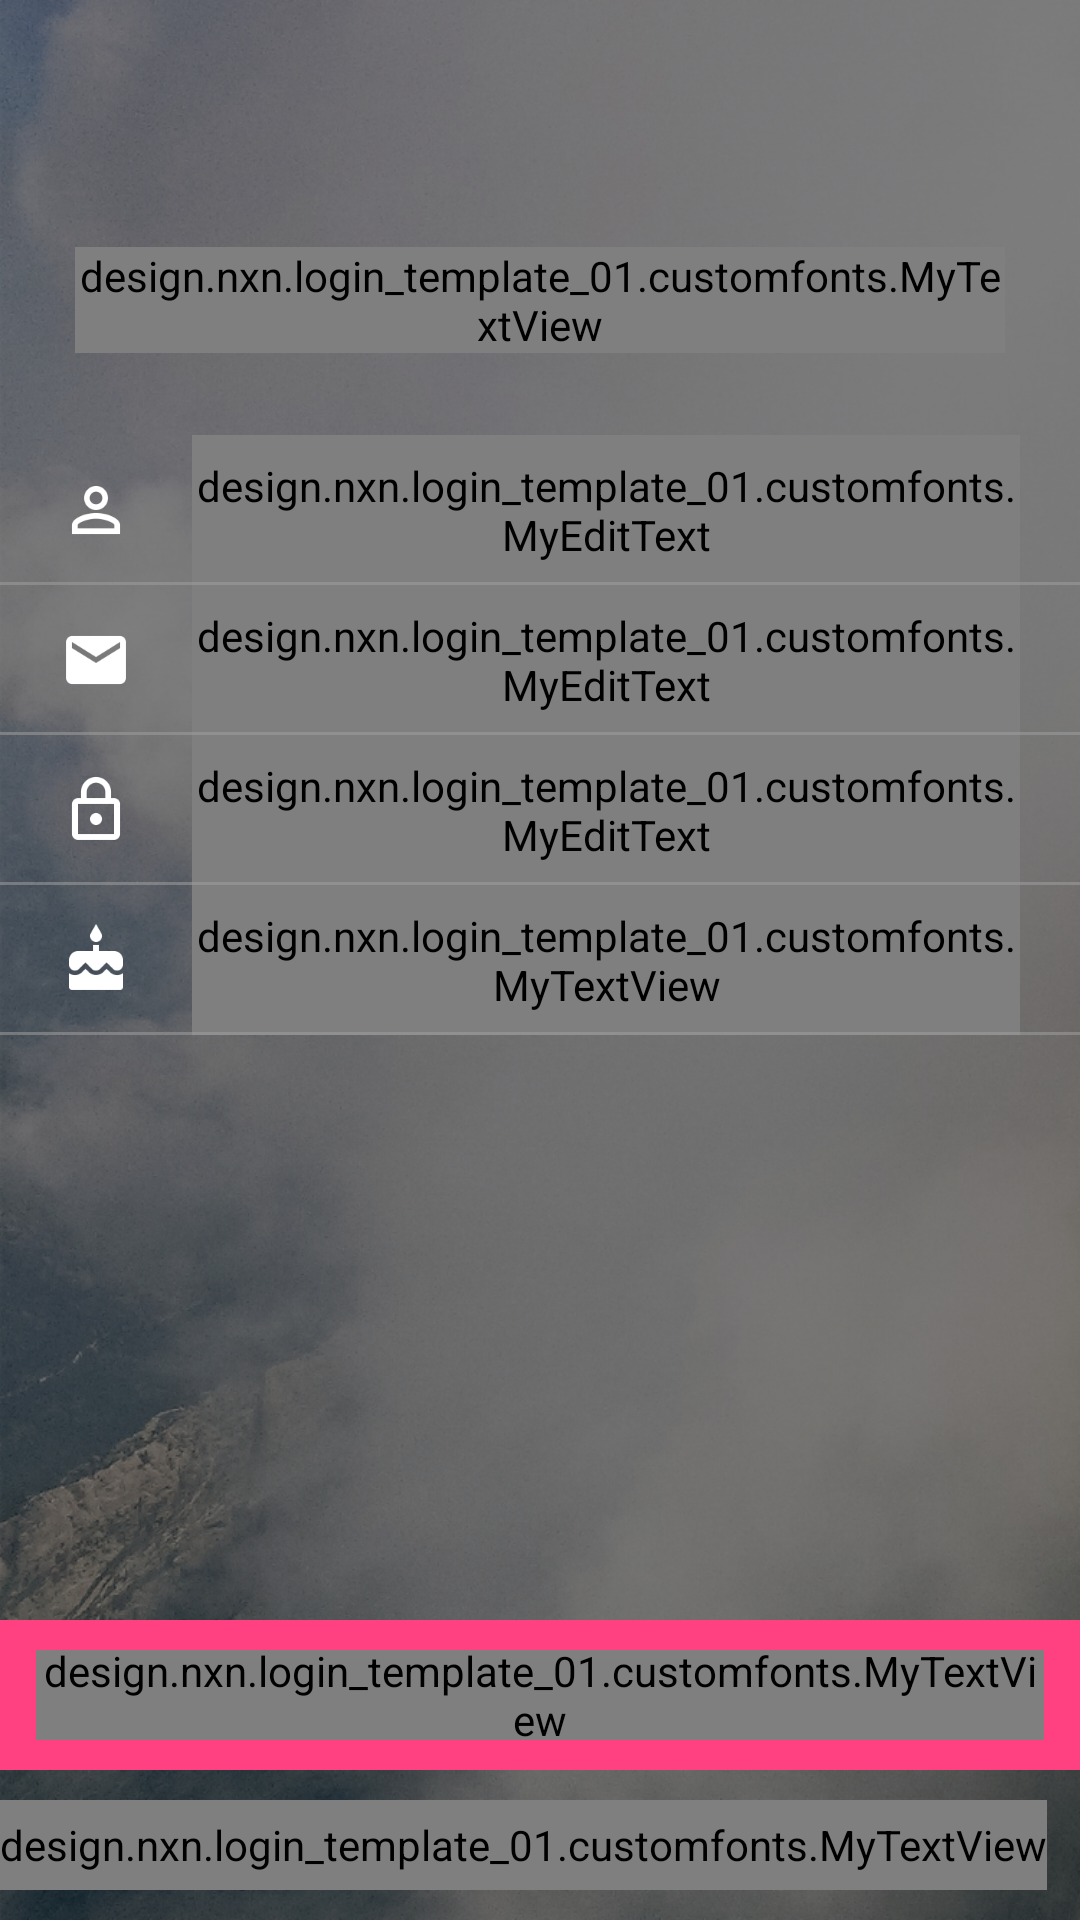

Icon bounding boxes for this 1080w x 1920h phone screenshot, format {"left": x1, "top": y1, "right": x2, "bottom": y2}:
user: {"left": 72, "top": 486, "right": 120, "bottom": 534}
